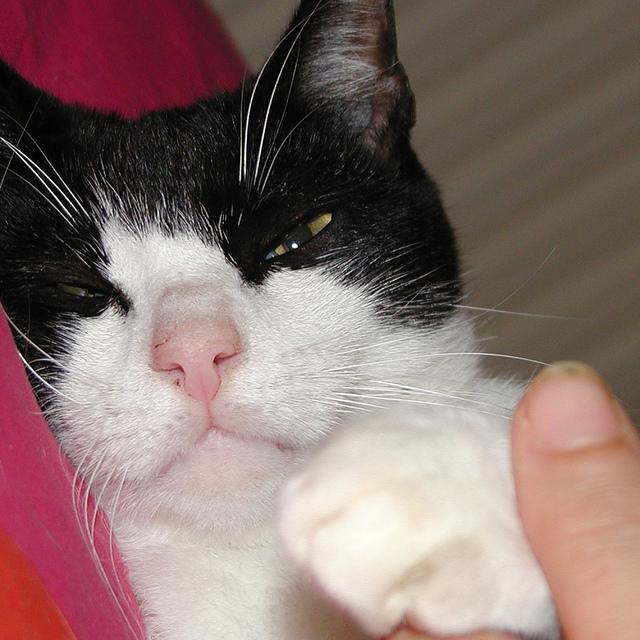animals: (0, 0, 408, 398)
